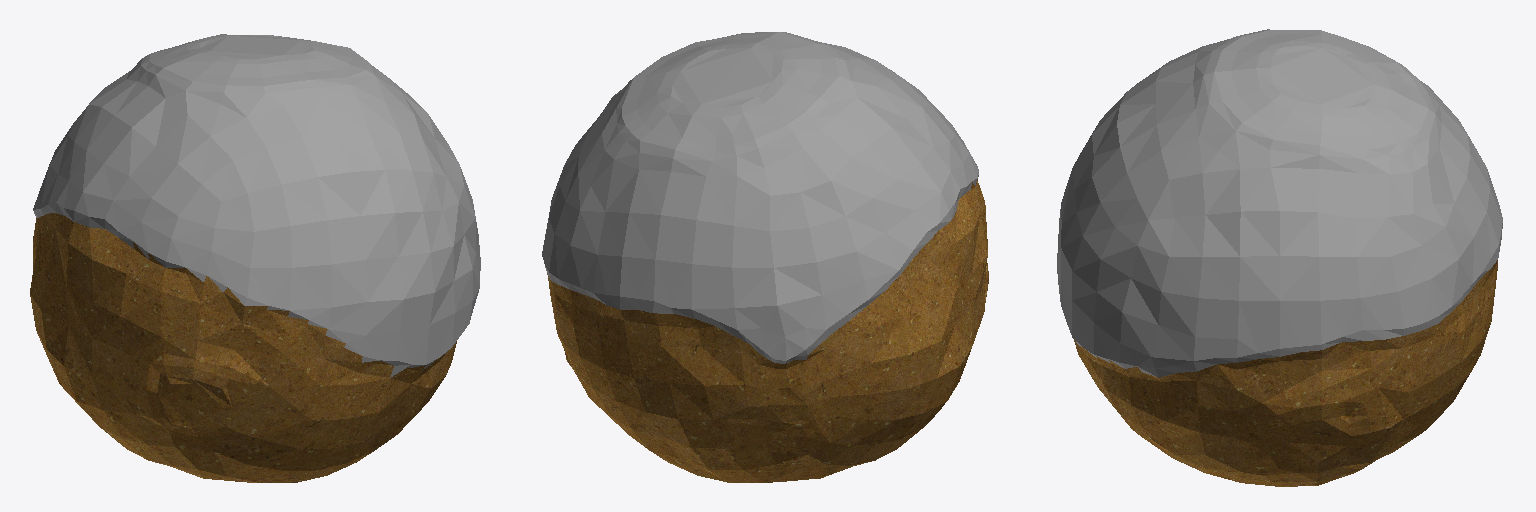
The picture shows the model from 3 angles: view 1: azimuth 30°, elevation 25°; view 2: azimuth 150°, elevation 25°; view 3: azimuth 270°, elevation 25°; orthographic projection.
Visible parts, largest first — view 1: mesh-1_meshId1_name, mesh-1.001_meshId1_name.001; view 2: mesh-1_meshId1_name, mesh-1.001_meshId1_name.001; view 3: mesh-1_meshId1_name, mesh-1.001_meshId1_name.001.
Boxes of the visible parts, <box> form: mesh-1_meshId1_name: <box>33,34,480,377</box>; mesh-1.001_meshId1_name.001: <box>30,213,456,482</box>; mesh-1_meshId1_name: <box>542,32,978,363</box>; mesh-1.001_meshId1_name.001: <box>547,179,988,482</box>; mesh-1_meshId1_name: <box>1057,29,1502,377</box>; mesh-1.001_meshId1_name.001: <box>1074,260,1497,486</box>.
Bounding box in the file's own units: 1489 × 1469 × 1479.
Materials: 3 (1 with a texture image).